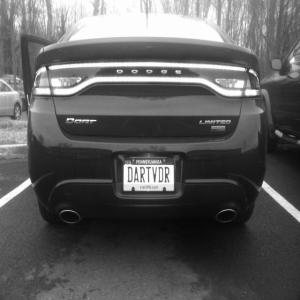Plate: (123, 158, 174, 191)
